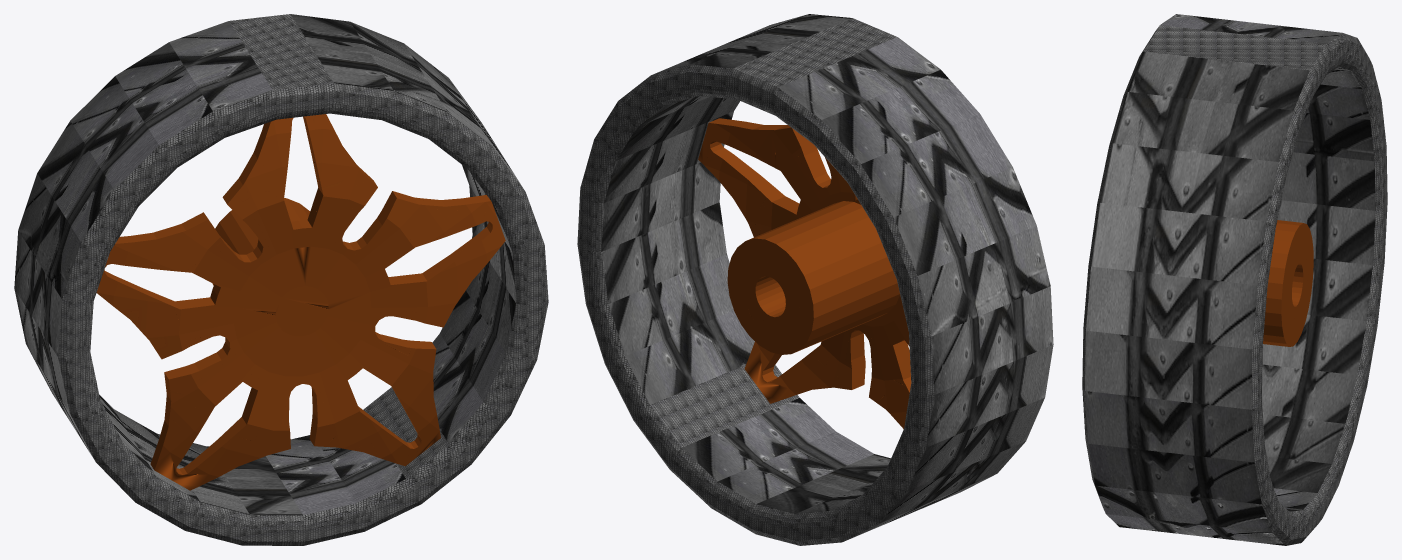
File: llantaDeDer.obj
The picture shows the model from 3 angles, left to right: view 1: azimuth 30°, elevation 25°; view 2: azimuth 150°, elevation 25°; view 3: azimuth 270°, elevation 25°; orthographic projection. The views are drawn at different scales.
Parts seen in each view (by area): view 1: Mesh78, Mesh77; view 2: Mesh78, Mesh77; view 3: Mesh78, Mesh77.
Boxes of the visible parts, <box> form: Mesh78: <box>14,14,548,545</box>; Mesh77: <box>96,114,505,490</box>; Mesh78: <box>577,14,1053,545</box>; Mesh77: <box>698,118,911,429</box>; Mesh78: <box>1082,14,1387,545</box>; Mesh77: <box>1263,220,1313,346</box>.
Bounding box in the file's own units: 32.29 × 30.63 × 18.15.
